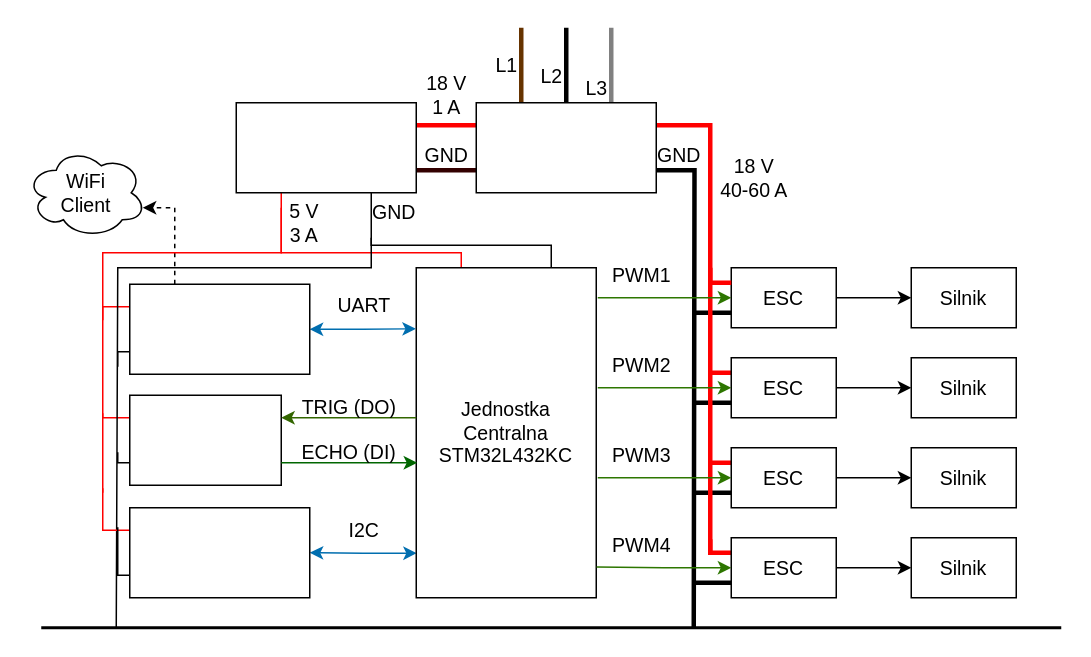
The diagram is 1091 pixels wide and 657 high, and some of its shapes have lost their labels. Each missing label, with the box of its shape:
AHRS BNO055: (128, 506, 310, 598)
Czujnik ultradźwiękowy HC-SR04: (128, 394, 281, 485)
Moduł Wi-Fi ESP8266: (128, 283, 310, 374)
Przetwornik obniżający LM2596: (235, 101, 416, 193)
Zasilacz Laboratoryjny 18V: (475, 101, 656, 193)
